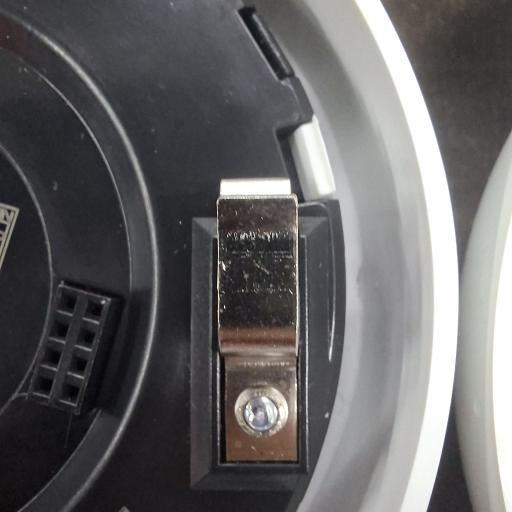yayli: (213, 181, 302, 466)
